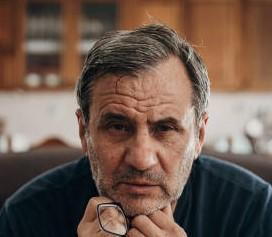Wrinkles: (100, 93, 155, 101), (98, 102, 129, 112), (142, 102, 174, 107), (134, 107, 151, 113)
